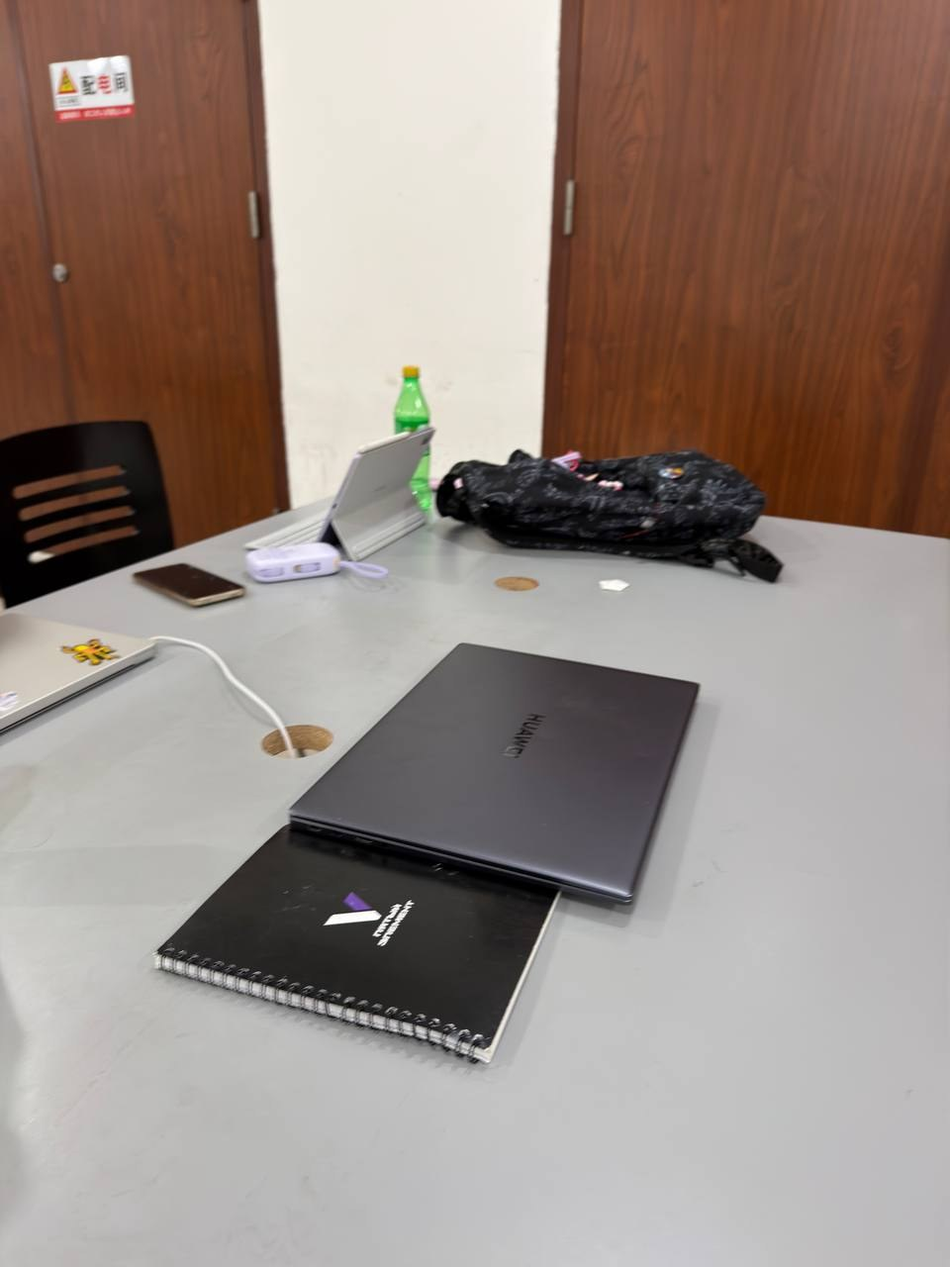cell phone: (133, 562, 246, 607)
laptop: (288, 640, 700, 908), (1, 609, 158, 734)
